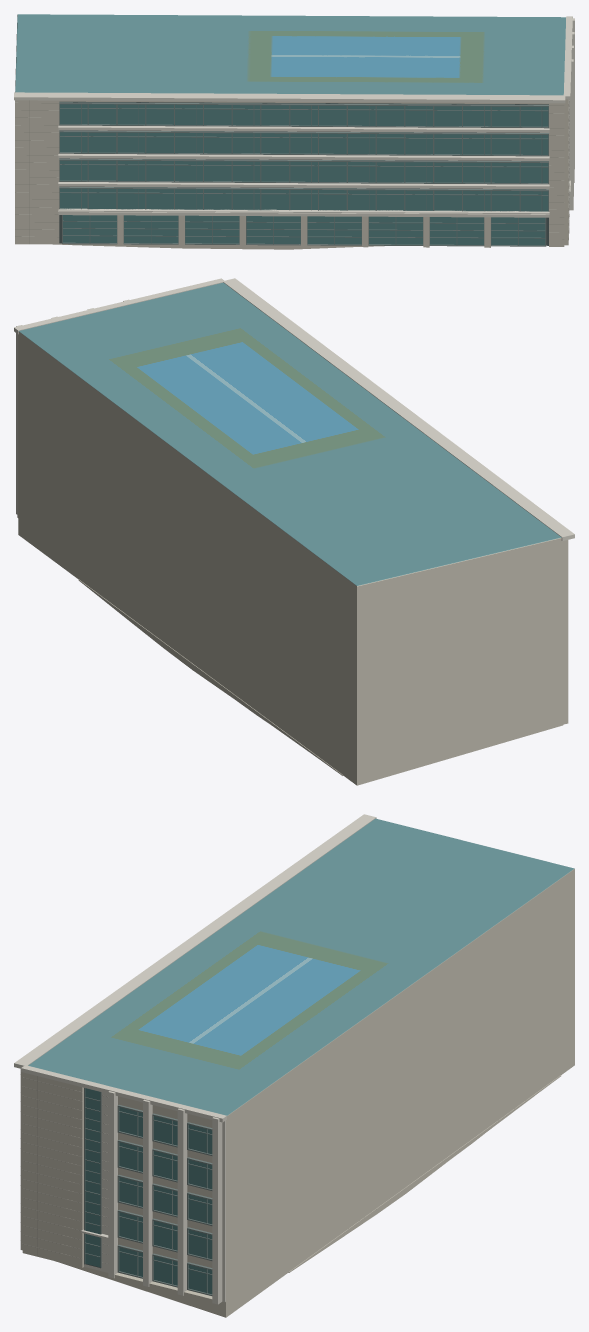
The model's file is fragments.glb.
The picture shows the model from 3 angles, top to bottom: view 1: azimuth 30°, elevation 25°; view 2: azimuth 150°, elevation 25°; view 3: azimuth 270°, elevation 25°; orthographic projection. The views are drawn at different scales.
Visible parts, largest first — view 1: SM_468931910_Fragment_017, SM_468931910_Fragment_038, SM_468931910_Fragment_058, SM_468931910_Fragment_047, SM_468931910_Fragment_046, SM_468931910_Fragment_036, SM_468931910_Fragment_027, SM_468931910_Fragment_007, SM_468931910_Fragment_061, SM_468931910_Fragment_009, SM_468931910_Fragment_054, SM_468931910_Fragment_008 (+23 smaller); view 2: SM_468931910_Fragment_017, SM_468931910_Fragment_031, SM_468931910_Fragment_021, SM_468931910_Fragment_015, SM_468931910_Fragment_002, SM_468931910_Fragment_063, SM_468931910_Fragment_048, SM_468931910_Fragment_062, SM_468931910_Fragment_029, SM_468931910_Fragment_019, SM_468931910_Fragment_008, SM_468931910_Fragment_005 (+28 smaller); view 3: SM_468931910_Fragment_028, SM_468931910_Fragment_015, SM_468931910_Fragment_017, SM_468931910_Fragment_052, SM_468931910_Fragment_021, SM_468931910_Fragment_029, SM_468931910_Fragment_062, SM_468931910_Fragment_019, SM_468931910_Fragment_018, SM_468931910_Fragment_008, SM_468931910_Fragment_011, SM_468931910_Fragment_004 (+26 smaller).
Part boxes in pixels (<box>): SM_468931910_Fragment_017: <box>14,53,565,154</box>; SM_468931910_Fragment_038: <box>58,90,549,190</box>; SM_468931910_Fragment_058: <box>58,100,549,210</box>; SM_468931910_Fragment_047: <box>58,186,549,249</box>; SM_468931910_Fragment_046: <box>15,100,88,244</box>; SM_468931910_Fragment_036: <box>405,154,520,247</box>; SM_468931910_Fragment_027: <box>404,72,527,155</box>; SM_468931910_Fragment_007: <box>138,65,236,154</box>; SM_468931910_Fragment_061: <box>490,77,569,246</box>; SM_468931910_Fragment_009: <box>117,181,203,248</box>; SM_468931910_Fragment_054: <box>52,65,147,125</box>; SM_468931910_Fragment_008: <box>308,52,417,126</box>; SM_468931910_Fragment_017: <box>223,278,574,540</box>; SM_468931910_Fragment_031: <box>404,587,522,720</box>; SM_468931910_Fragment_021: <box>247,499,370,607</box>; SM_468931910_Fragment_015: <box>16,321,105,514</box>; SM_468931910_Fragment_002: <box>314,551,412,684</box>; SM_468931910_Fragment_063: <box>360,548,490,652</box>; SM_468931910_Fragment_048: <box>324,673,419,785</box>; SM_468931910_Fragment_062: <box>188,440,315,526</box>; SM_468931910_Fragment_029: <box>207,520,278,644</box>; SM_468931910_Fragment_019: <box>71,366,197,473</box>; SM_468931910_Fragment_008: <box>214,355,365,420</box>; SM_468931910_Fragment_005: <box>485,518,563,600</box>; SM_468931910_Fragment_028: <box>22,1068,225,1302</box>; SM_468931910_Fragment_015: <box>187,1074,286,1304</box>; SM_468931910_Fragment_017: <box>14,814,376,1068</box>; SM_468931910_Fragment_052: <box>21,1065,226,1286</box>; SM_468931910_Fragment_021: <box>402,884,537,1005</box>; SM_468931910_Fragment_029: <box>420,966,494,1121</box>; SM_468931910_Fragment_062: <box>312,940,462,1019</box>; SM_468931910_Fragment_019: <box>251,1022,339,1125</box>; SM_468931910_Fragment_018: <box>117,1105,272,1295</box>; SM_468931910_Fragment_008: <box>126,956,266,1020</box>; SM_468931910_Fragment_011: <box>114,1227,247,1317</box>; SM_468931910_Fragment_004: <box>271,1108,337,1220</box>.
Bounding box in the file's own units: 2.2 × 0.6912 × 1.71.
9 materials, 1 textured.
